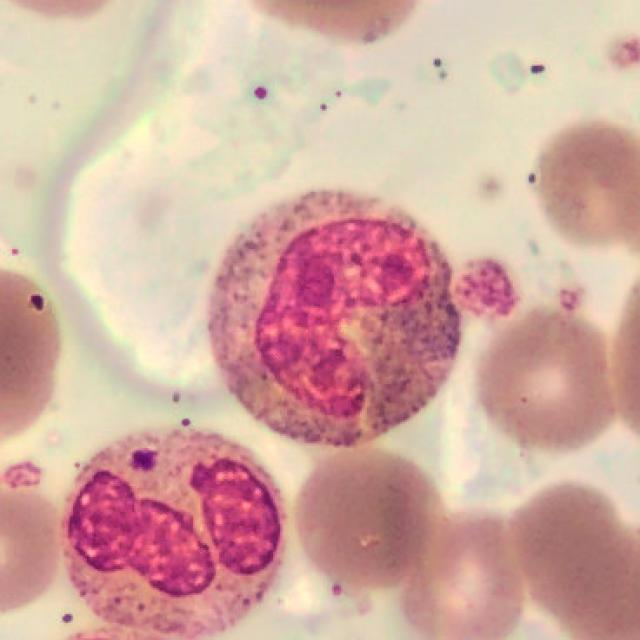Metamielocito: (205, 190, 463, 448)
Neutrofilo segmentado: (64, 427, 285, 638)
